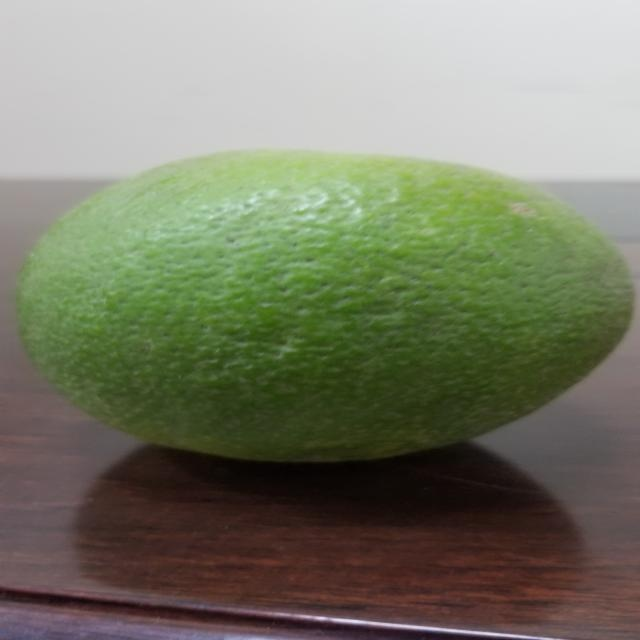agrume: (13, 149, 640, 460)
